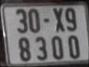-: (44, 18, 50, 22)
0: (51, 35, 64, 59), (68, 35, 80, 59), (28, 9, 40, 32)
3: (16, 9, 28, 33), (36, 36, 47, 60)
8: (19, 37, 31, 61)
9: (65, 8, 77, 31)
X: (53, 8, 65, 32)
